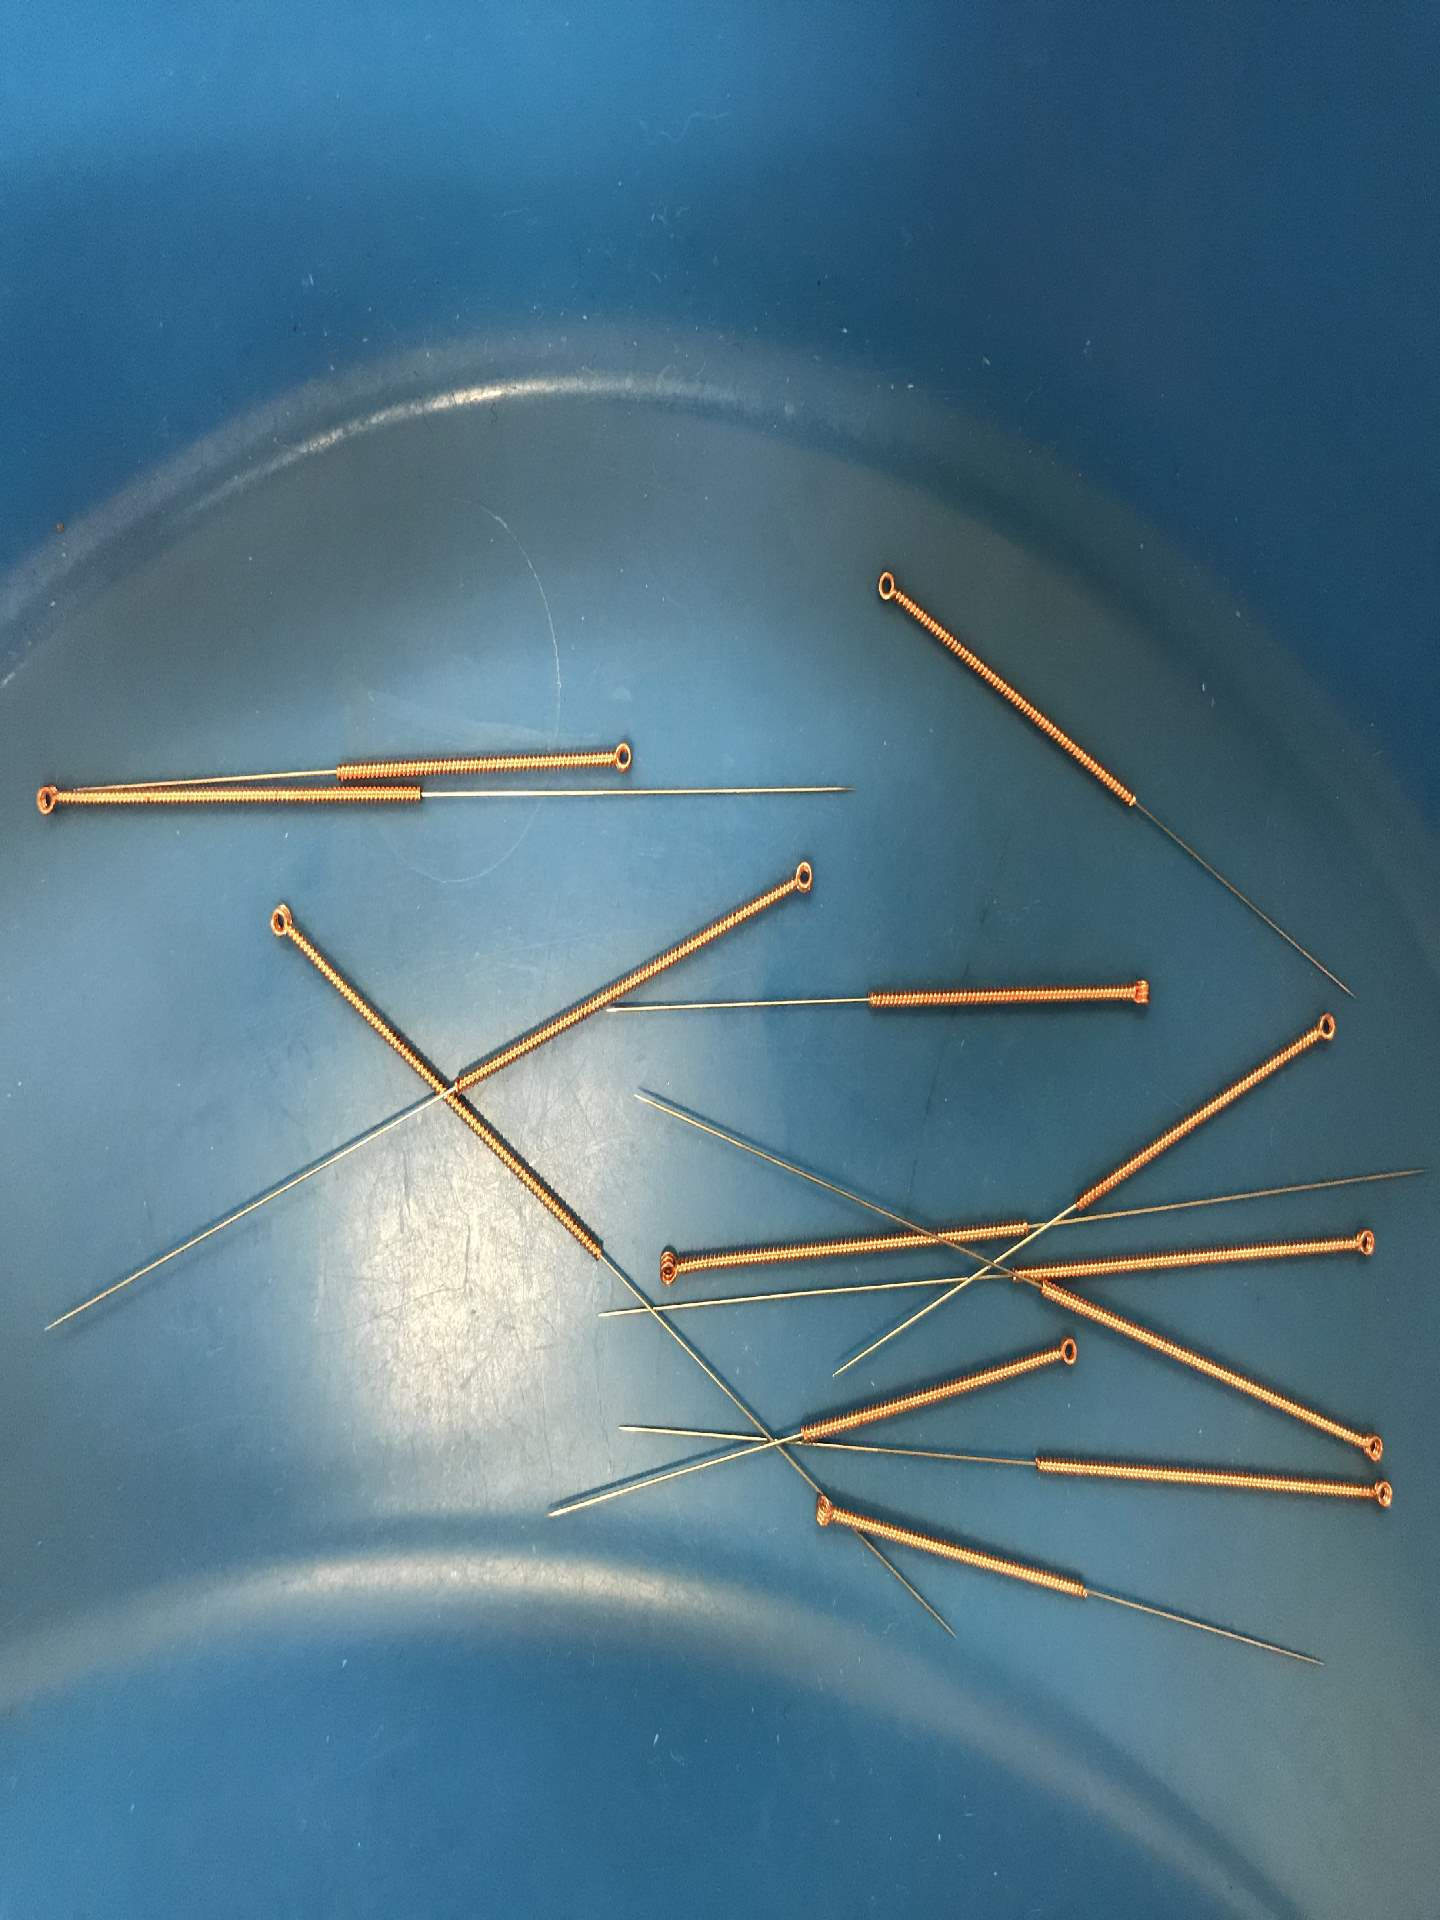needle: (18, 776, 79, 830), (257, 895, 309, 952), (1348, 1468, 1402, 1519), (646, 1240, 697, 1290), (802, 1488, 852, 1539), (1106, 969, 1159, 1017), (1041, 1324, 1086, 1380), (1298, 1005, 1349, 1054), (867, 562, 911, 617), (1336, 1219, 1383, 1268), (779, 851, 821, 906), (590, 735, 641, 779), (1345, 1417, 1390, 1465)
